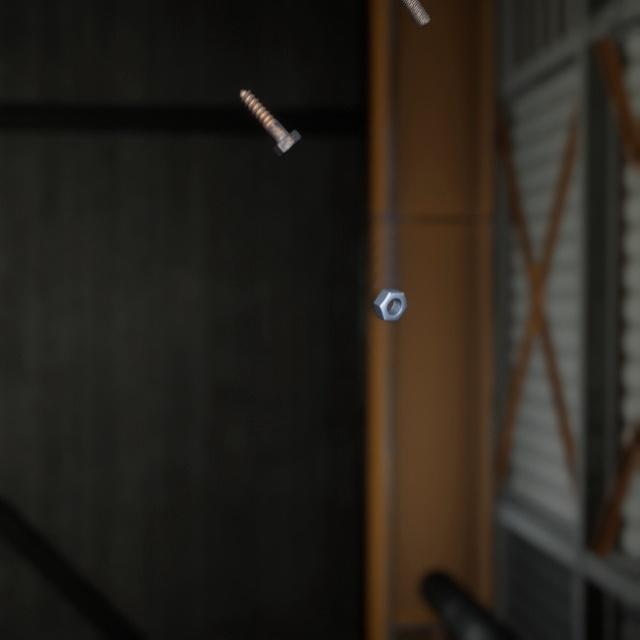bolt: (234, 72, 306, 148), (398, 0, 435, 28)
nut: (368, 267, 412, 309)
